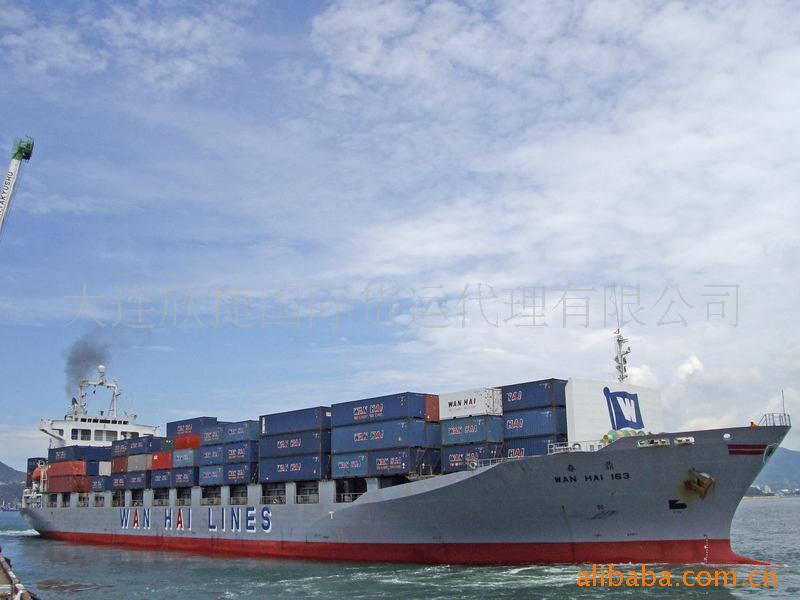Cargoship: (16, 341, 793, 564)
